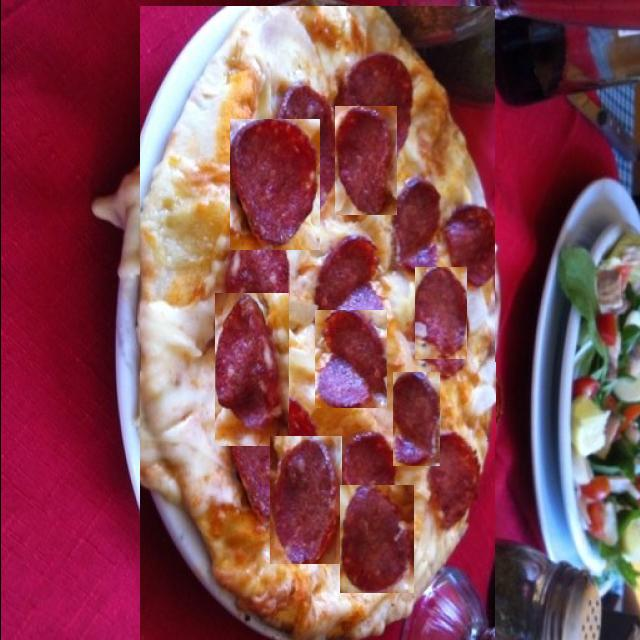pepperoni: (229, 120, 319, 252), (214, 293, 288, 446), (269, 436, 341, 564), (339, 485, 413, 593), (314, 310, 386, 408), (334, 106, 396, 215), (414, 267, 466, 359), (391, 372, 438, 466), (442, 362, 497, 440)
pizza: (139, 6, 494, 640)
